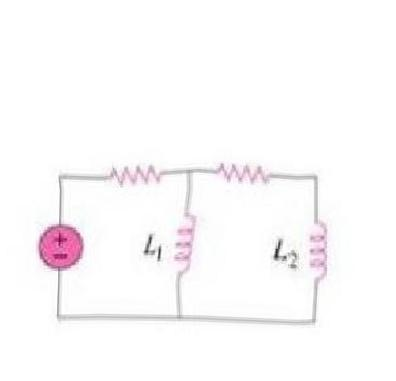Battery: (27, 219, 94, 273)
